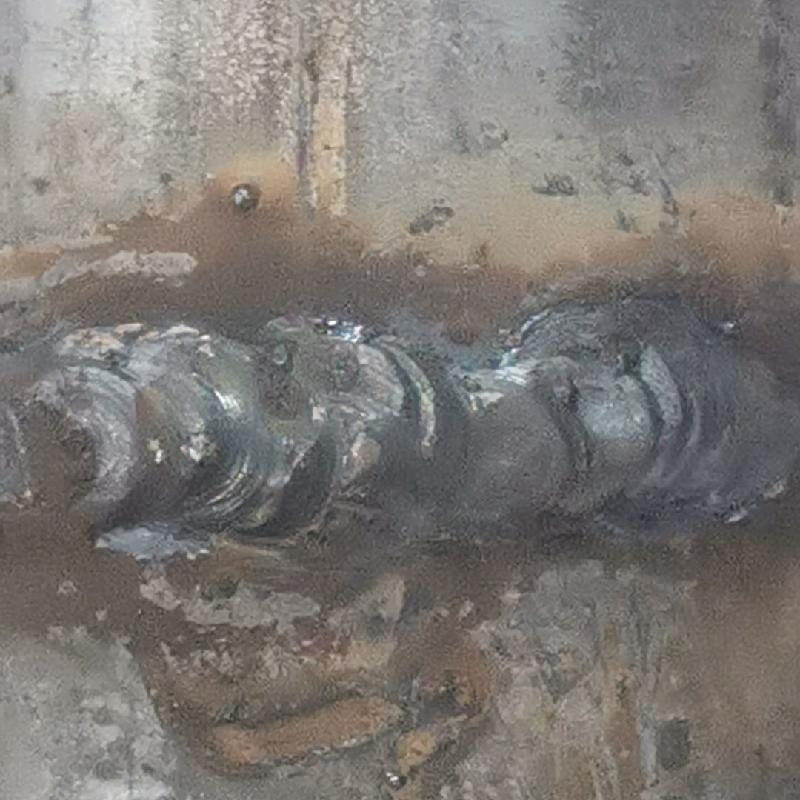good: (3, 315, 799, 533)
